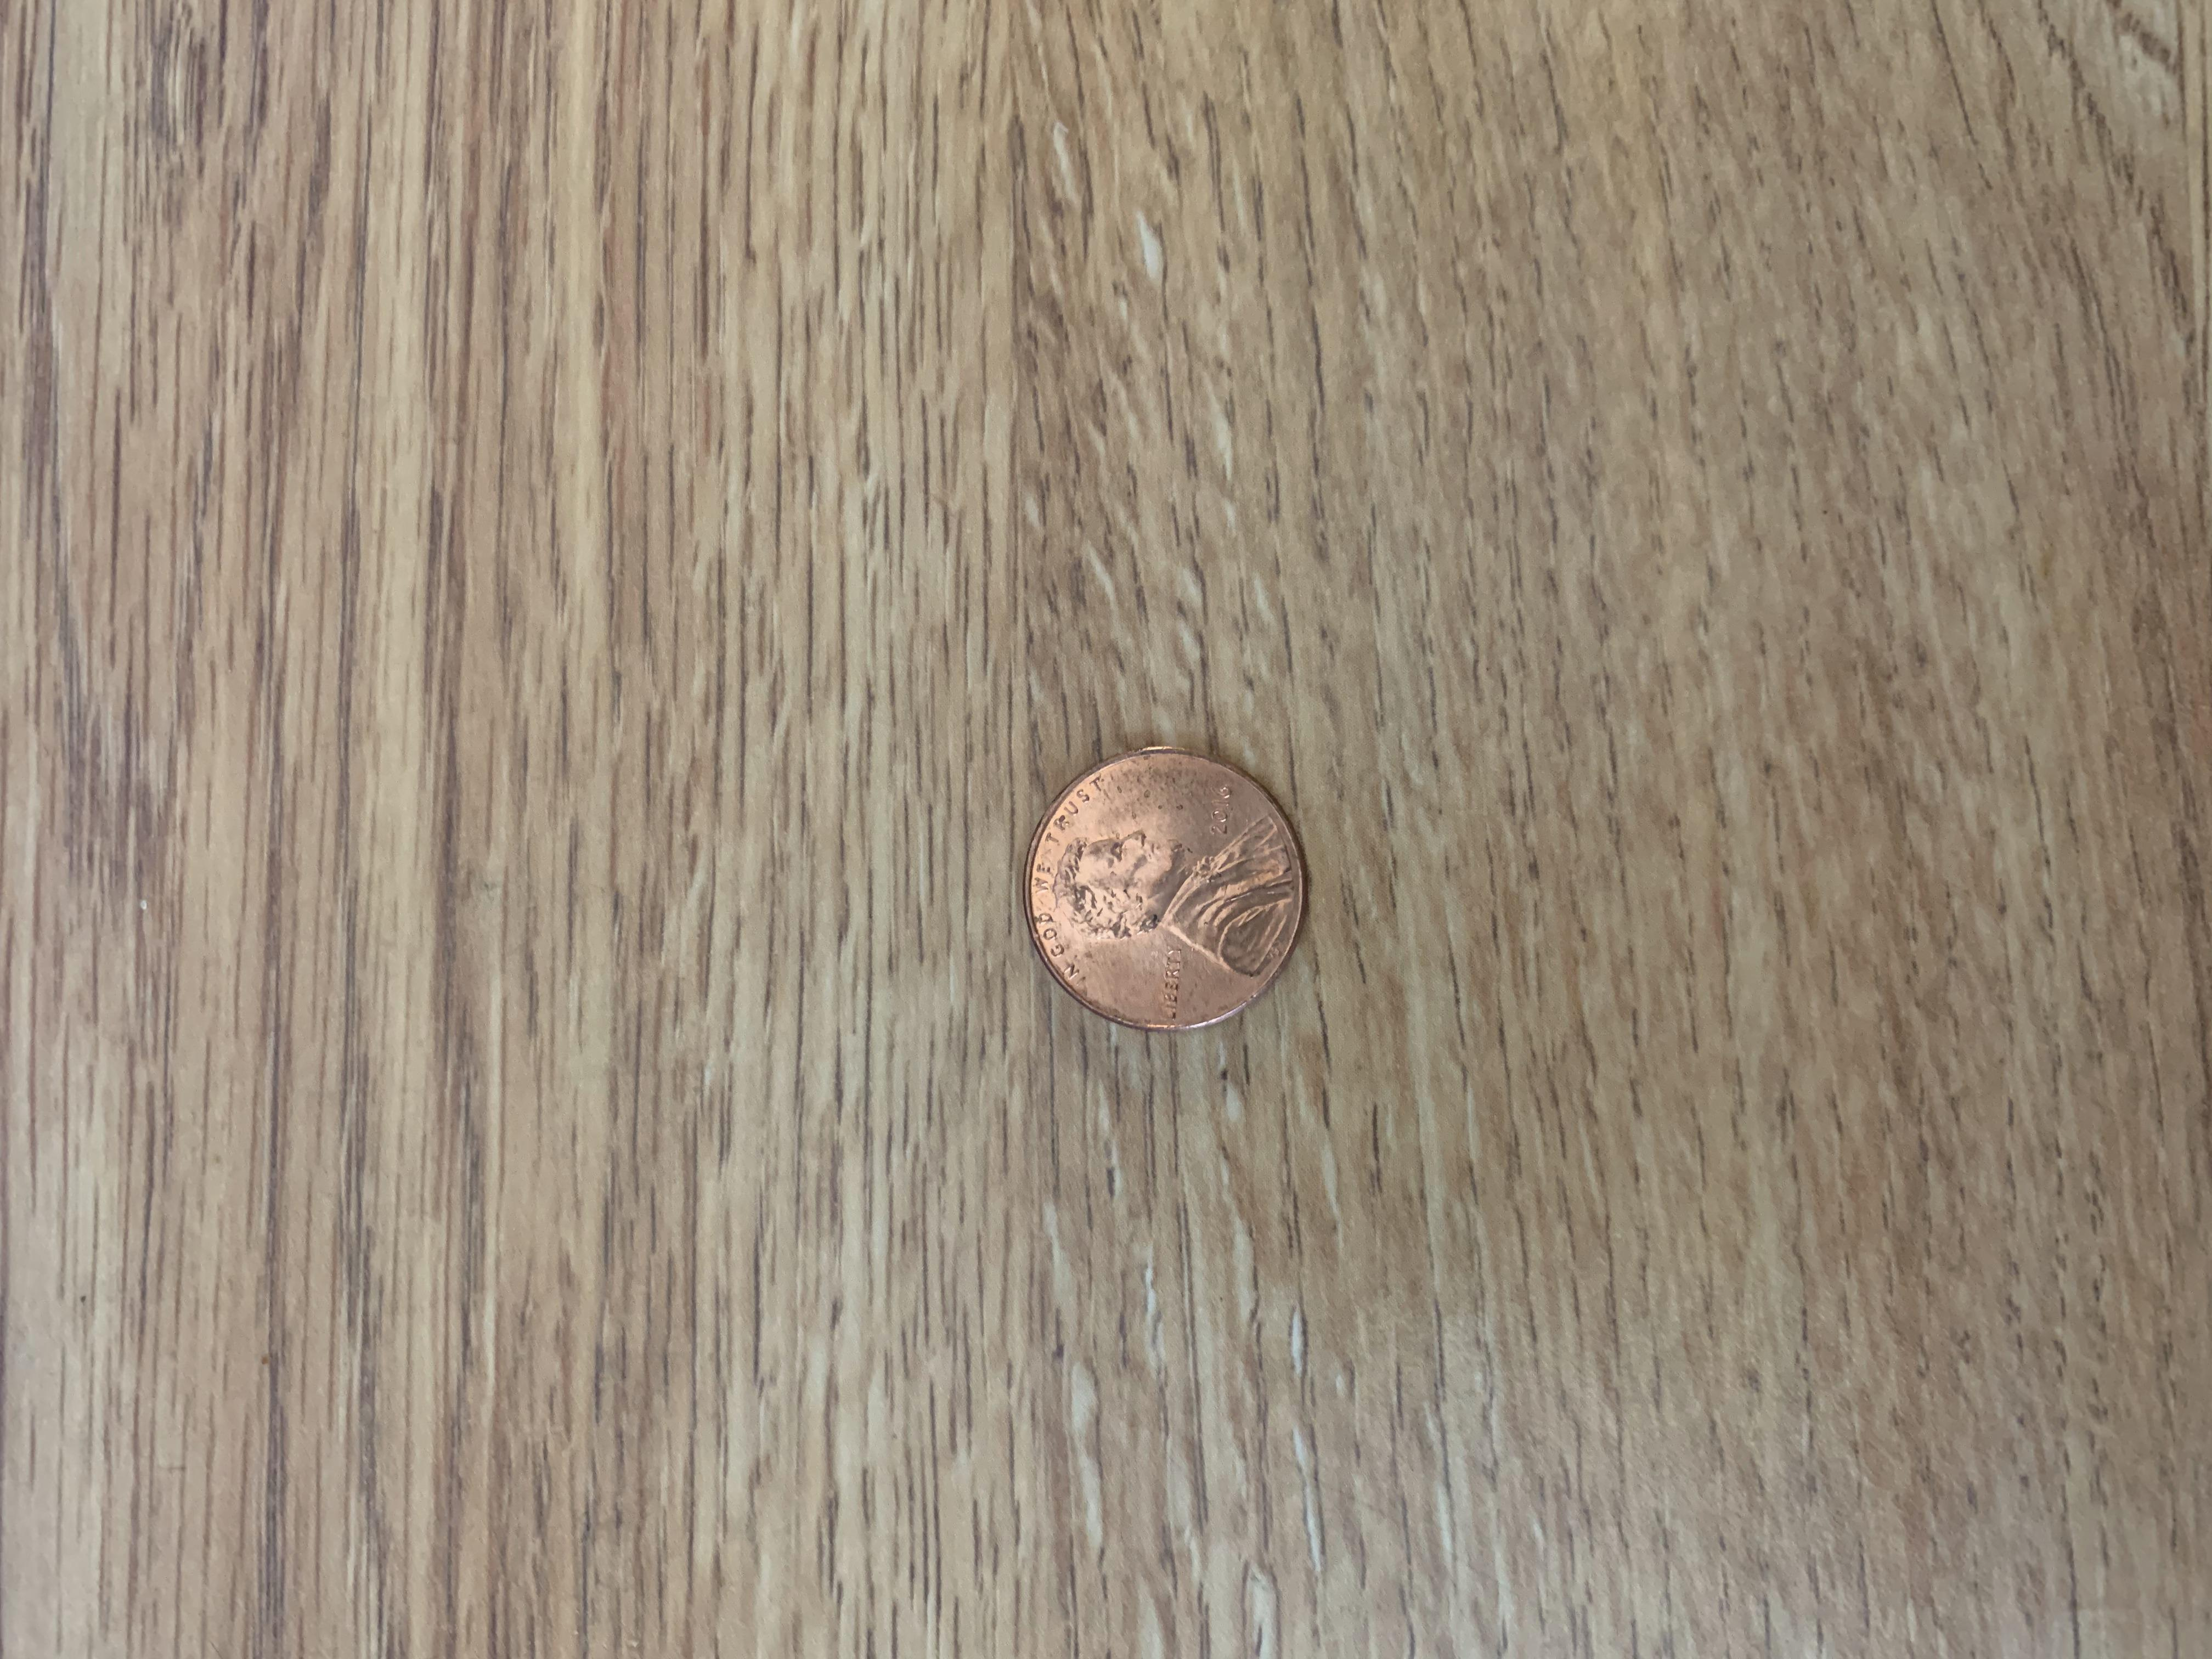Penny: (1015, 737, 1317, 1035)
